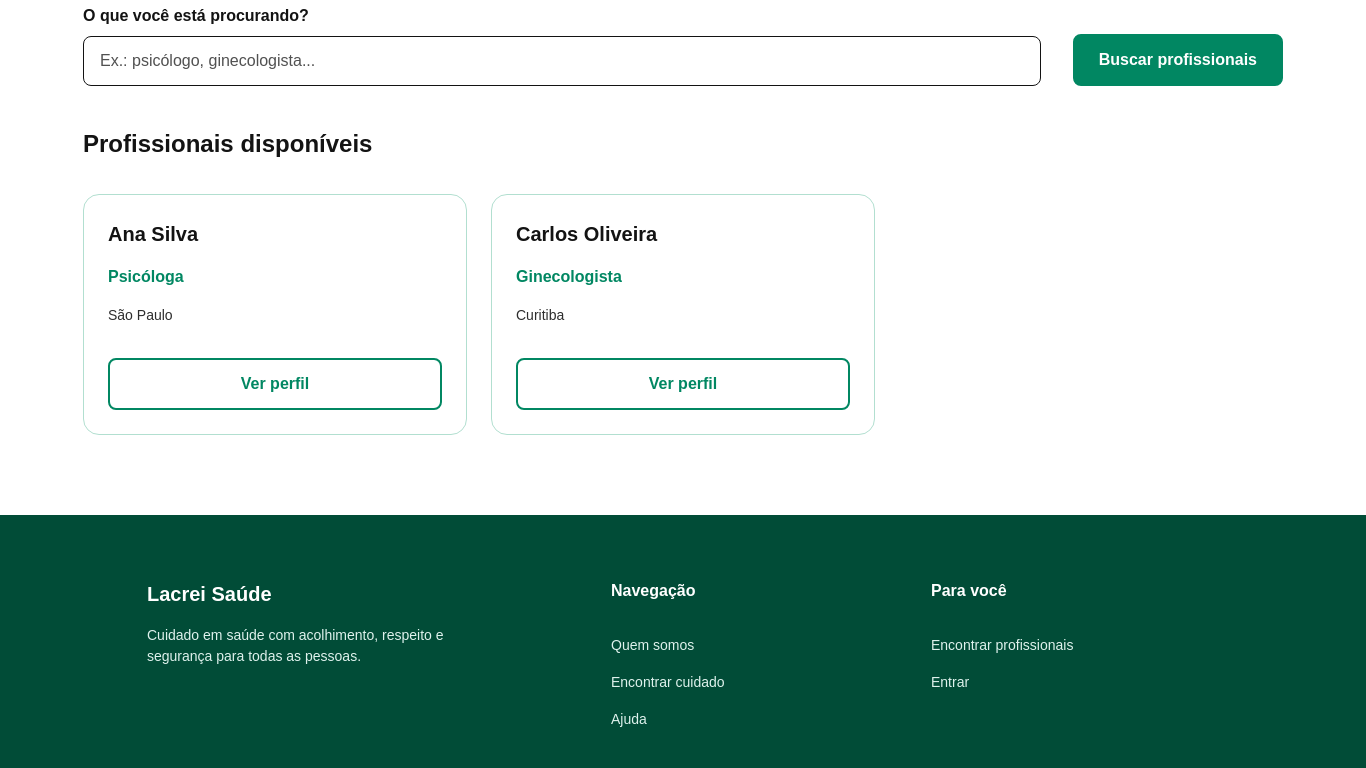
Scenario: BuscarPage › abre o modal ao clicar em Ver perfil
(page scrolled)
Check: the heading "Ana Silva" is shown, box [108,223,198,245]
Click the button "Ver perfil" below "São Paulo": (275,384) [108,358,442,410]
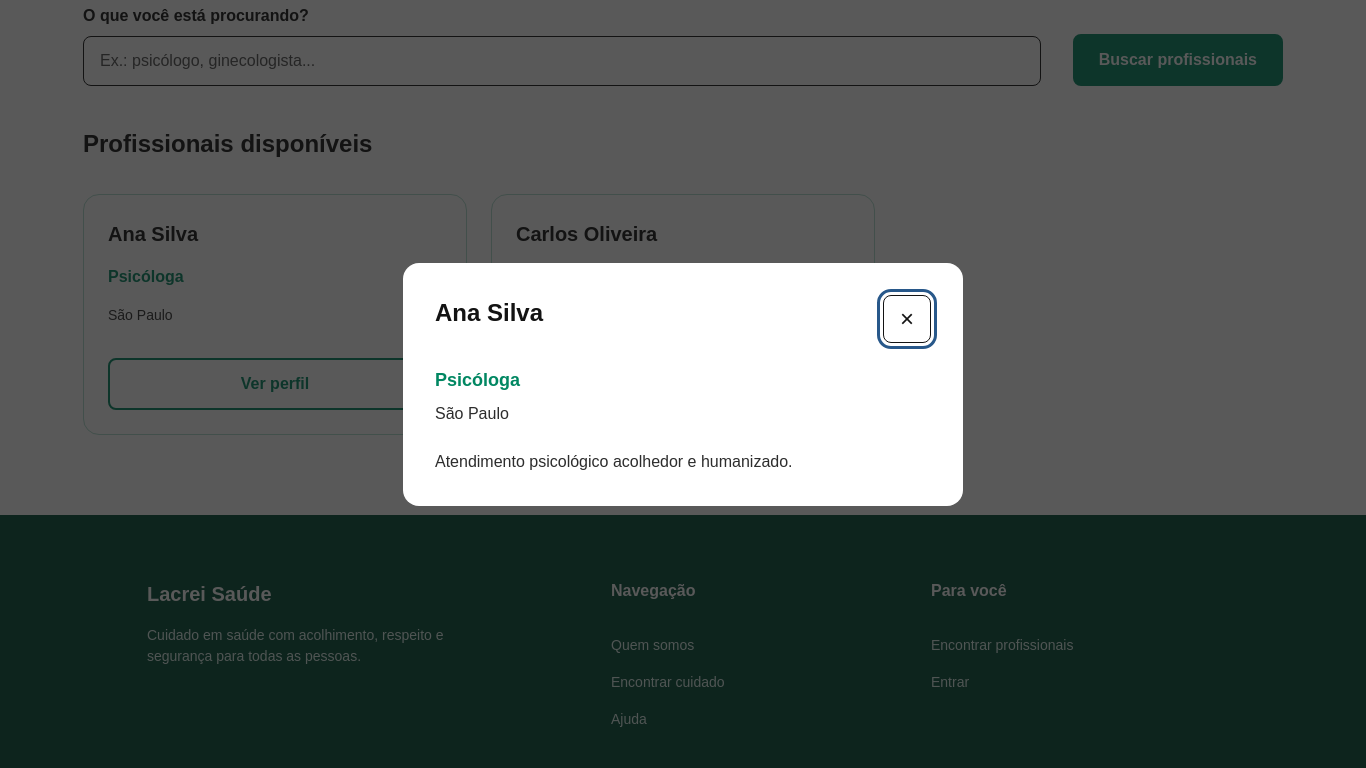
Check: the dialog is shown, box [403,262,963,506]
